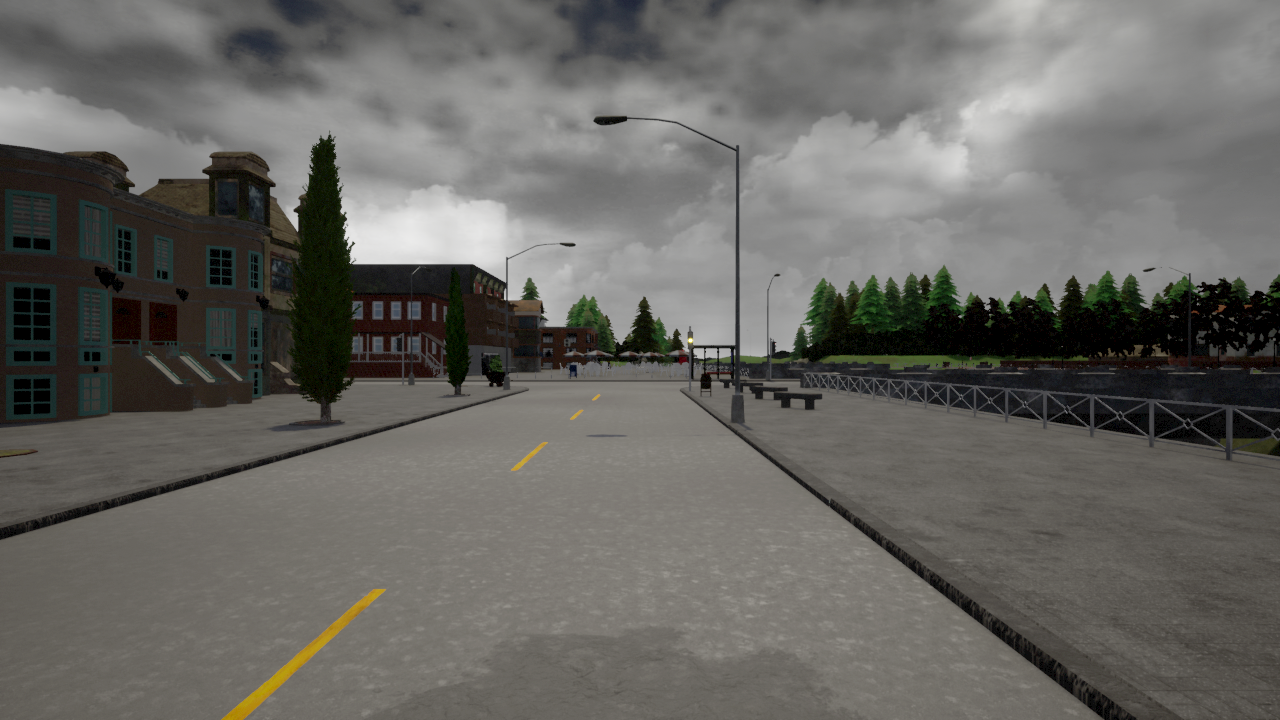yellow: (687, 330, 695, 349)
